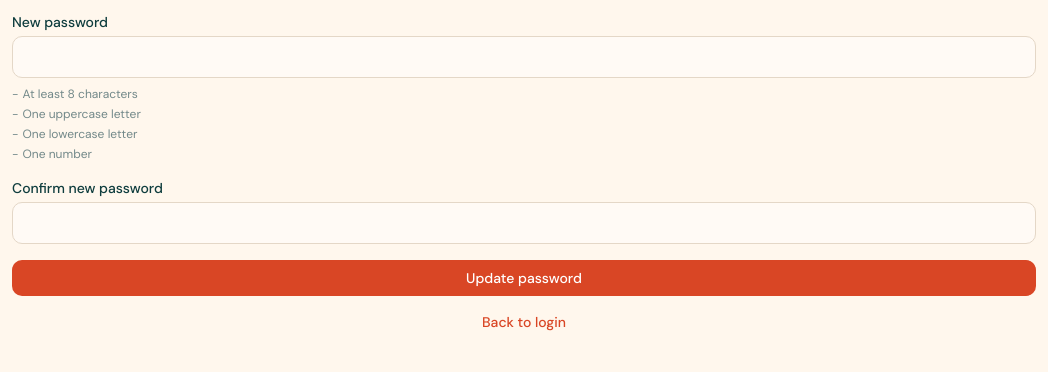
Test: components/auth/UpdatePasswordForm › shows validation error for weak password
Type "weak" into the password field labelled "New password" at (524, 57), box [12,36,1036,78]
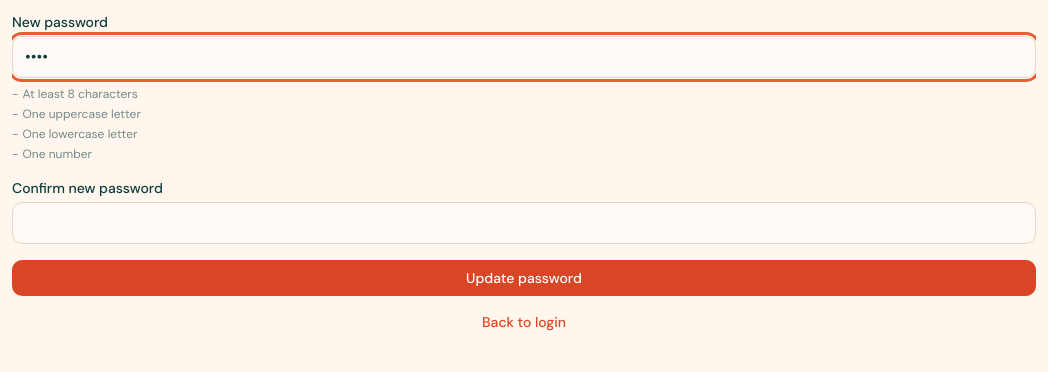
Type "weak" into the password field labelled "Confirm new password" at (524, 223), box [12,202,1036,244]
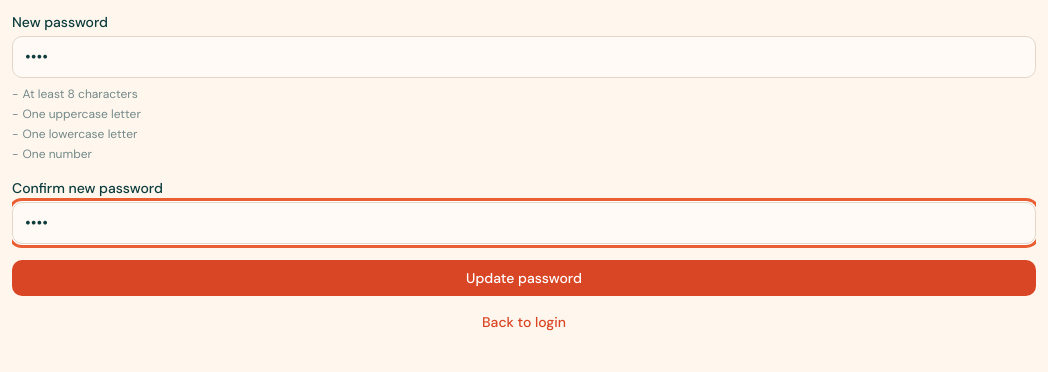
Click the button "Update password" at (524, 278), box [12,260,1036,296]
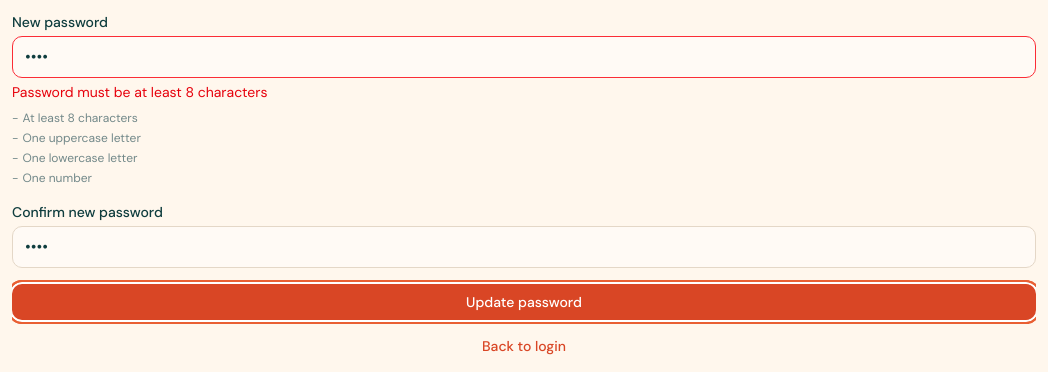
Check: the text "Password must be at least 8 characters" is shown, box [12,83,267,101]
